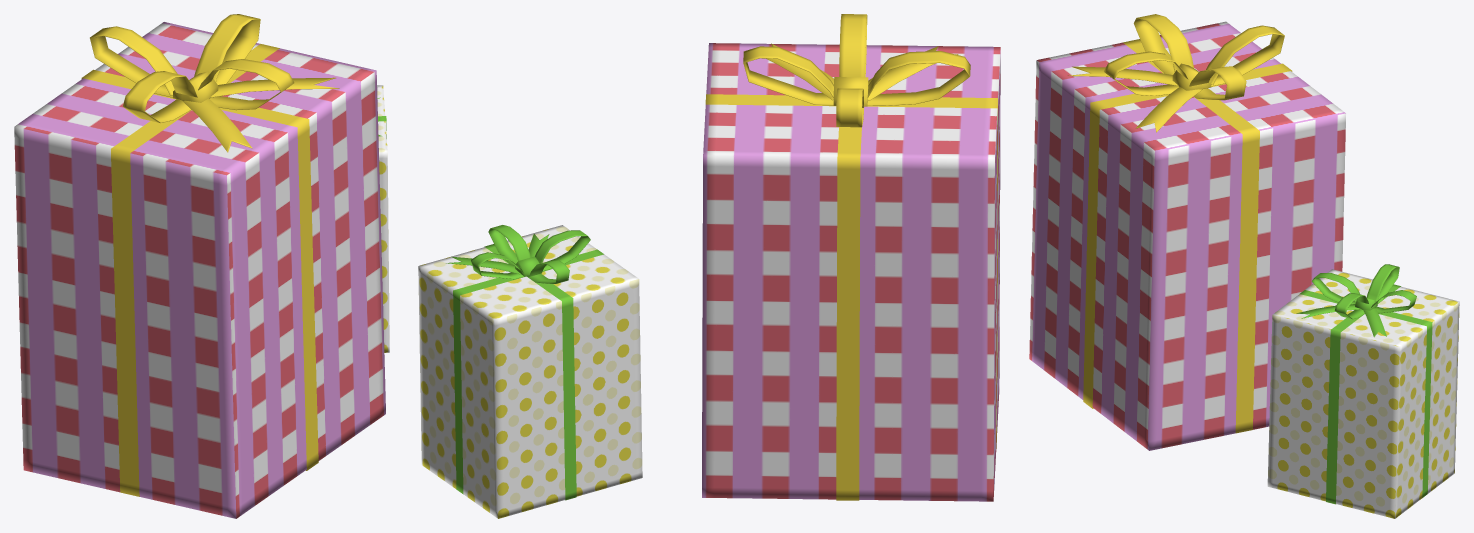
Rendered from Paket_10.glb.
3 views of the same model, side by side, from view 1: azimuth 30°, elevation 25°; view 2: azimuth 150°, elevation 25°; view 3: azimuth 270°, elevation 25° (orthographic). The views are drawn at different scales.
Visible parts, largest first — view 1: Paket.010; view 2: Paket.010; view 3: Paket.010.
Part boxes in pixels (x1,y1,x2,y2): Paket.010: [14, 14, 389, 518]; Paket.010: [418, 14, 1000, 518]; Paket.010: [1029, 14, 1459, 518].
Size of the model in its own units: 1.37 by 1.11 by 1.25.
4 materials, 2 textured.
